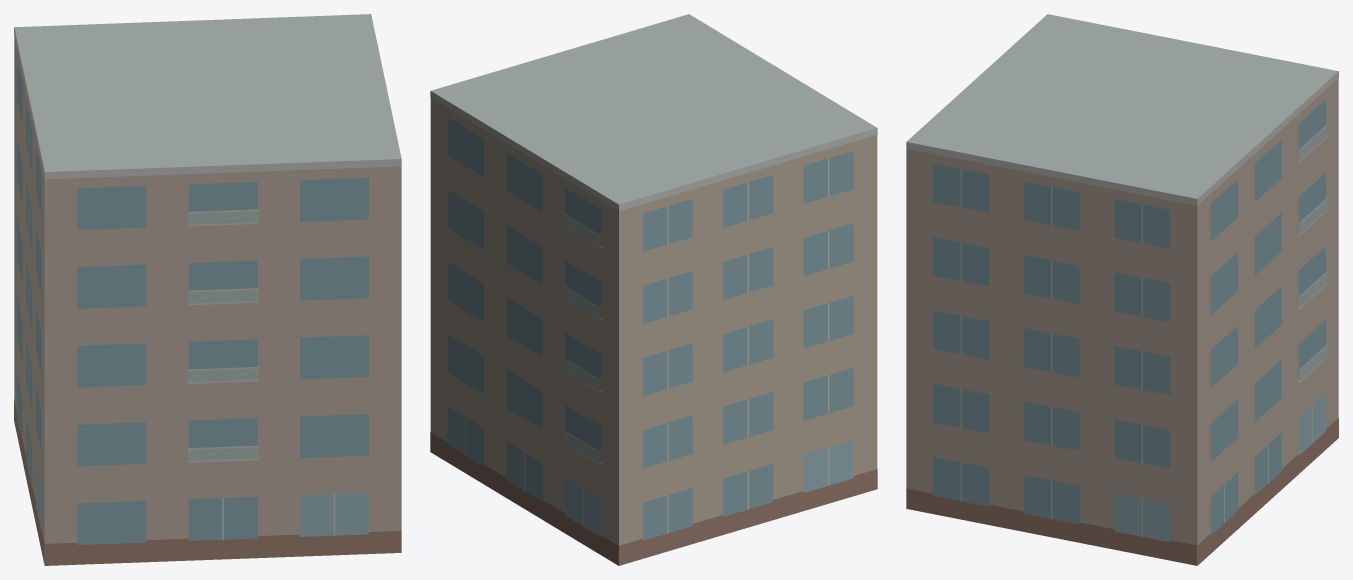
File: survey-upis-32891077.glb
3 views of the same model, side by side, from view 1: azimuth 30°, elevation 25°; view 2: azimuth 150°, elevation 25°; view 3: azimuth 270°, elevation 25° (orthographic). The views are drawn at different scales.
Visible parts, largest first — view 1: survey-upis-32891077.tmp; view 2: survey-upis-32891077.tmp; view 3: survey-upis-32891077.tmp.
Part boxes in pixels (left/top/right/bottom): survey-upis-32891077.tmp: left=14, top=14, right=401, bottom=565; survey-upis-32891077.tmp: left=430, top=14, right=877, bottom=565; survey-upis-32891077.tmp: left=906, top=14, right=1338, bottom=565.
Bounding box in the file's own units: 14.28 × 13.2 × 14.11.
